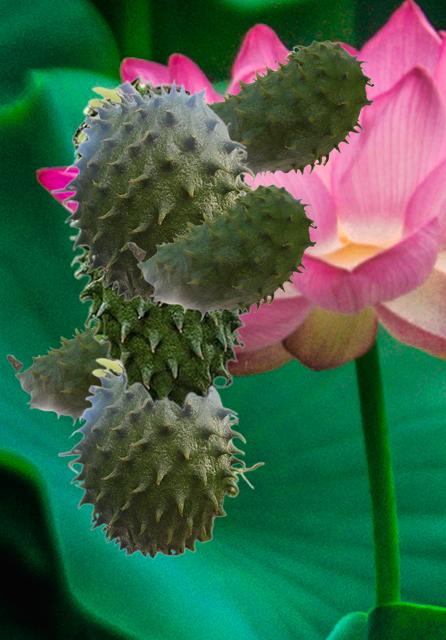guyabano: (66, 73, 257, 410), (50, 77, 256, 305), (57, 357, 264, 559), (127, 184, 316, 320), (207, 40, 373, 181), (6, 321, 116, 425)
